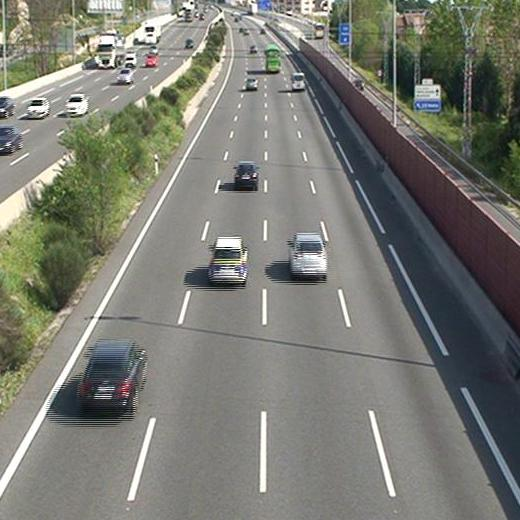bus: (266, 46, 281, 72)
car: (79, 341, 147, 413), (208, 237, 247, 284), (289, 233, 327, 276), (234, 163, 258, 187), (245, 77, 257, 89)
van: (292, 71, 305, 90)
